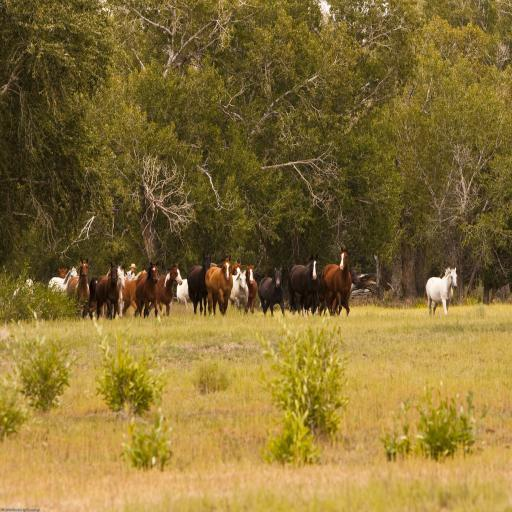horse: (12, 246, 362, 320), (424, 266, 458, 316)
